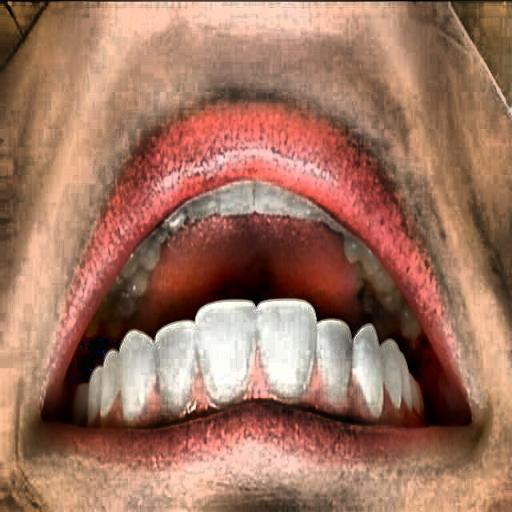Healthy: (45, 63, 448, 512)
